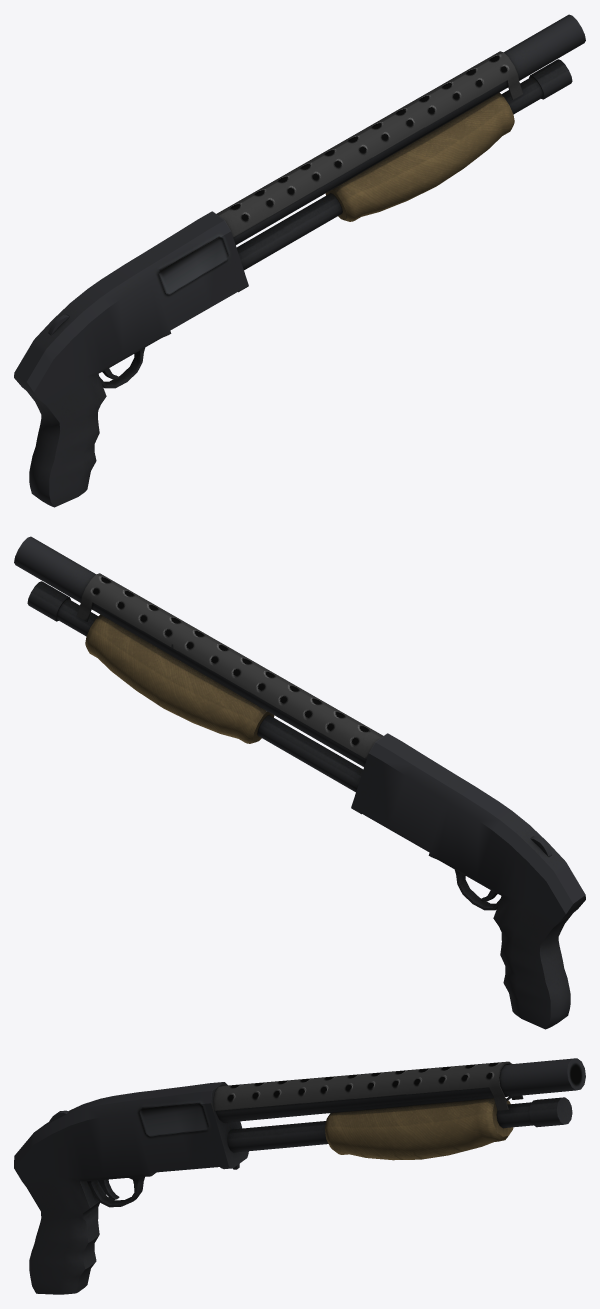
File: shotgun_000006.obj
3 renders of one model, top to bottom at view 1: azimuth 30°, elevation 25°; view 2: azimuth 150°, elevation 25°; view 3: azimuth 330°, elevation 25°, orthographic.
Parts seen in each view (by area): view 1: mesh_Cube.001; view 2: mesh_Cube.001; view 3: mesh_Cube.001.
Part boxes in pixels (x1,y1,x2,y2): mesh_Cube.001: [14, 14, 585, 507]; mesh_Cube.001: [14, 536, 585, 1029]; mesh_Cube.001: [14, 1058, 585, 1294].
Size of the model in its own units: 1.73 by 1.05 by 0.1708.
1 material, 1 textured.
